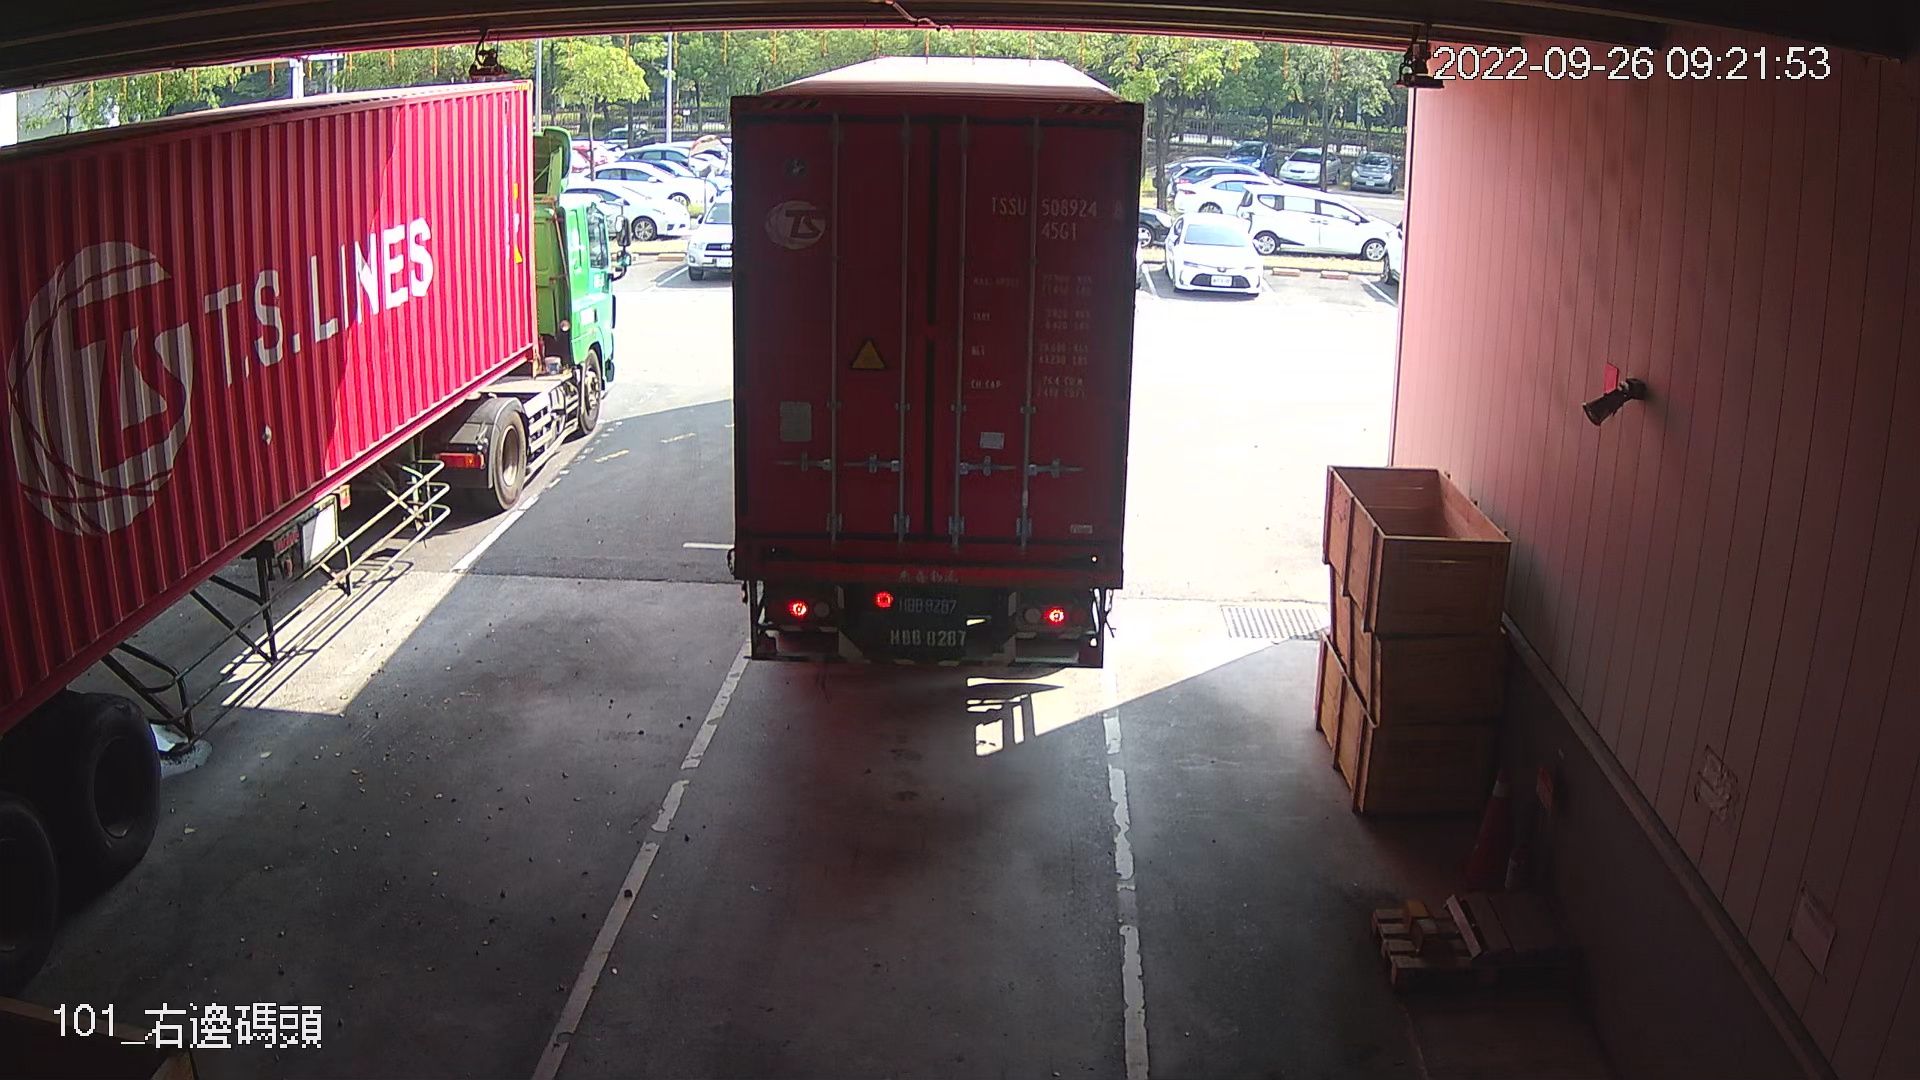container: (976, 185, 1131, 248)
